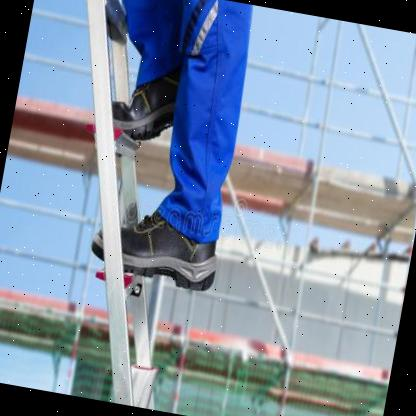bota: (82, 197, 229, 299), (104, 54, 183, 150)
